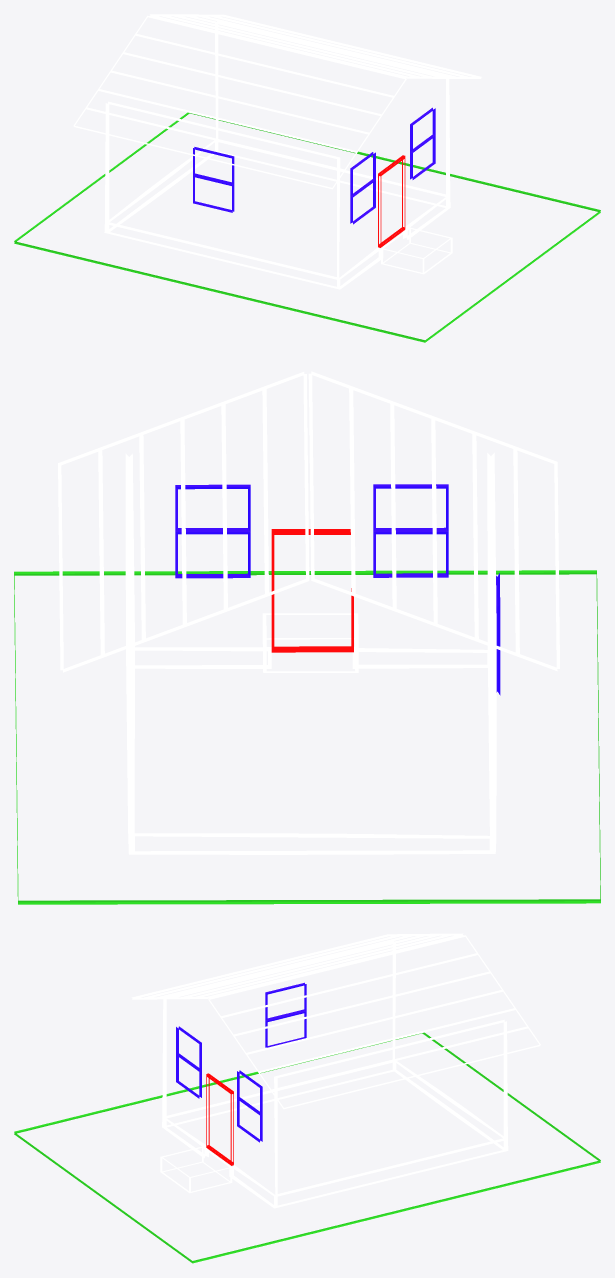
The model's file is portfoliohome.glb.
The picture shows the model from 3 angles, top to bottom: view 1: azimuth 30°, elevation 25°; view 2: azimuth 150°, elevation 25°; view 3: azimuth 270°, elevation 25°; orthographic projection. The views are drawn at different scales.
Parts seen in each view (by area): view 1: Roof, House, Plane, Windows, WindowsR, Door, Platform; view 2: Roof, House, Plane, Windows, Door, Platform; view 3: Roof, House, Plane, Windows, Door, WindowsR, Platform.
Part boxes in pixels (x1=…): Roof: x1=73, y1=14, x2=481, y2=189; House: x1=104, y1=21, x2=450, y2=289; Plane: x1=14, y1=112, x2=600, y2=342; Windows: x1=350, y1=107, x2=435, y2=224; WindowsR: x1=193, y1=147, x2=234, y2=212; Door: x1=378, y1=155, x2=405, y2=247; Platform: x1=381, y1=227, x2=452, y2=274; Roof: x1=58, y1=371, x2=559, y2=672; House: x1=125, y1=452, x2=496, y2=854; Plane: x1=14, y1=570, x2=600, y2=904; Windows: x1=175, y1=484, x2=448, y2=578; Door: x1=271, y1=529, x2=353, y2=652; Platform: x1=262, y1=613, x2=358, y2=672; Roof: x1=131, y1=933, x2=540, y2=1109; House: x1=162, y1=941, x2=508, y2=1208; Plane: x1=14, y1=1032, x2=600, y2=1263; Windows: x1=176, y1=1026, x2=262, y2=1142; Door: x1=206, y1=1073, x2=233, y2=1165; WindowsR: x1=265, y1=982, x2=306, y2=1047; Platform: x1=160, y1=1146, x2=232, y2=1193.
Bounding box in the file's own units: 8.74 × 3.15 × 9.43.
